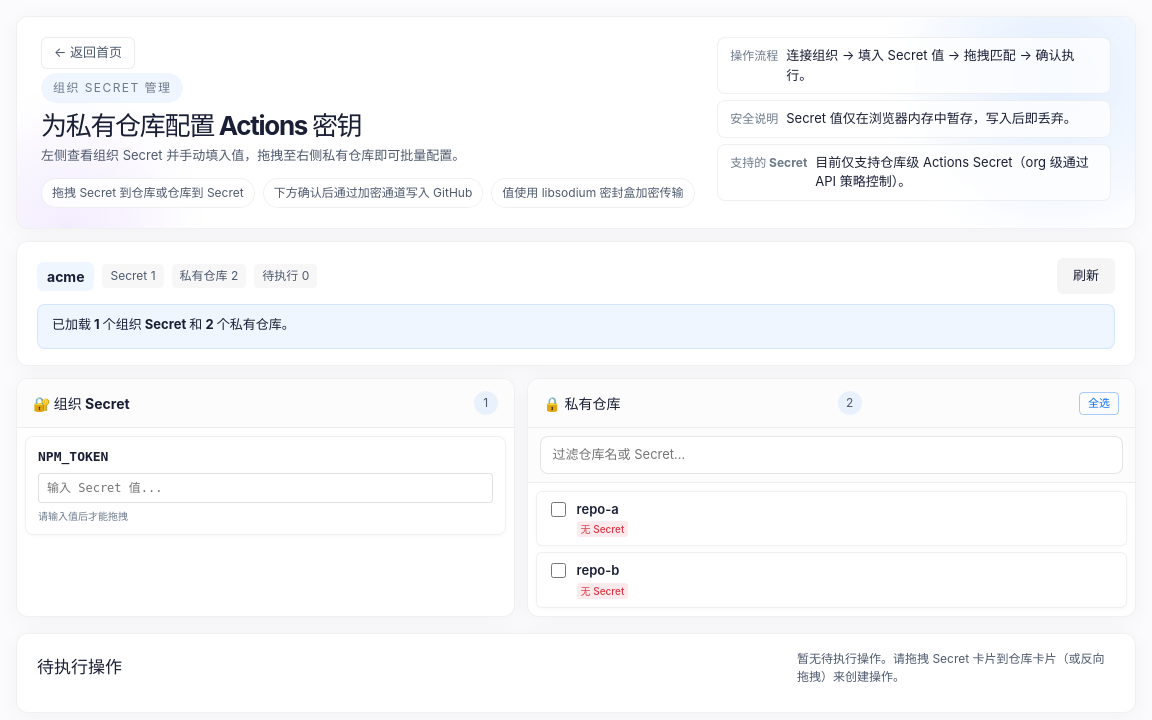
Scenario: SecretManager › shows an empty state when the filter matches no repos
Expected: the link "repo-a" is shown, x1=577 y1=501 x2=619 y2=517
Type "no-such-repo" into the field named "过滤私有仓库".
click(831, 455); type("no-such-repo")  # box x1=540 y1=436 x2=1123 y2=474
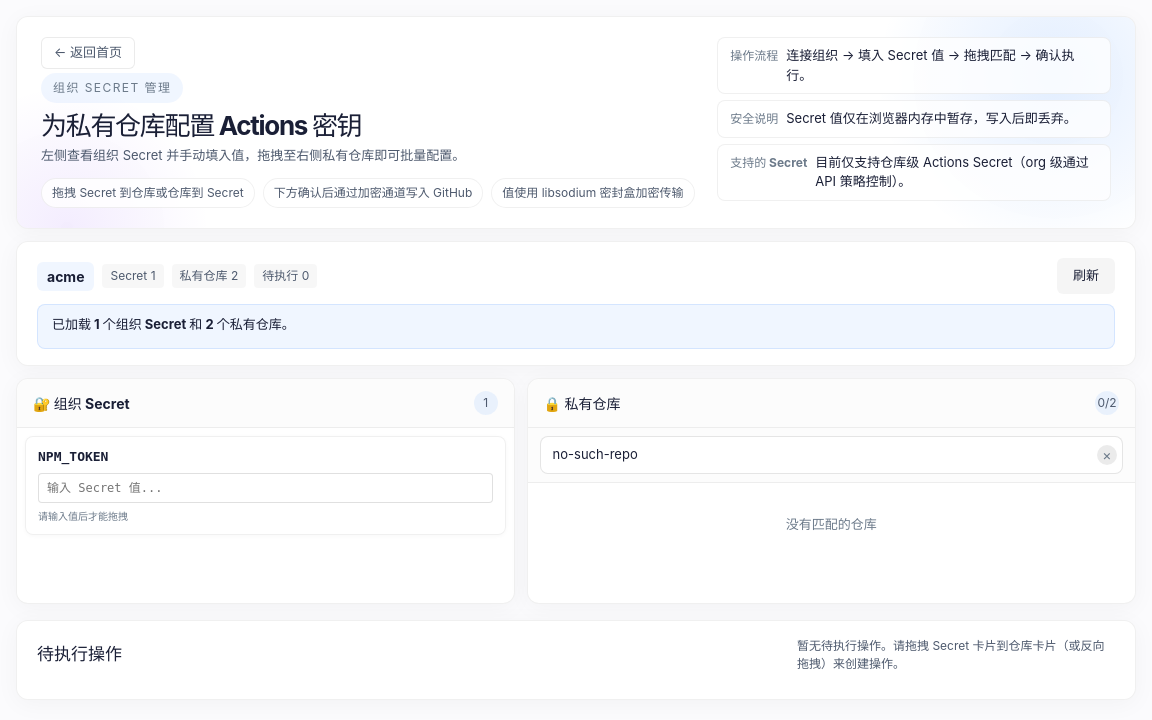
Expected: the text "没有匹配的仓库" is shown, x1=786 y1=516 x2=877 y2=532
Expected: the link "repo-a" is gone
